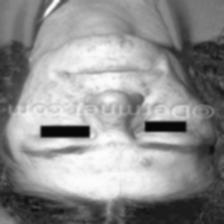Non-Cancerous Skin Condition: (32, 76, 182, 104), (88, 139, 158, 180), (57, 32, 144, 60)
